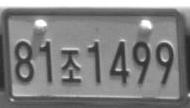1: (84, 40, 106, 83), (38, 40, 57, 82)
4: (109, 40, 129, 83)
8: (13, 40, 34, 82)
9: (154, 41, 175, 84), (131, 40, 151, 84)
조: (60, 49, 82, 83)
